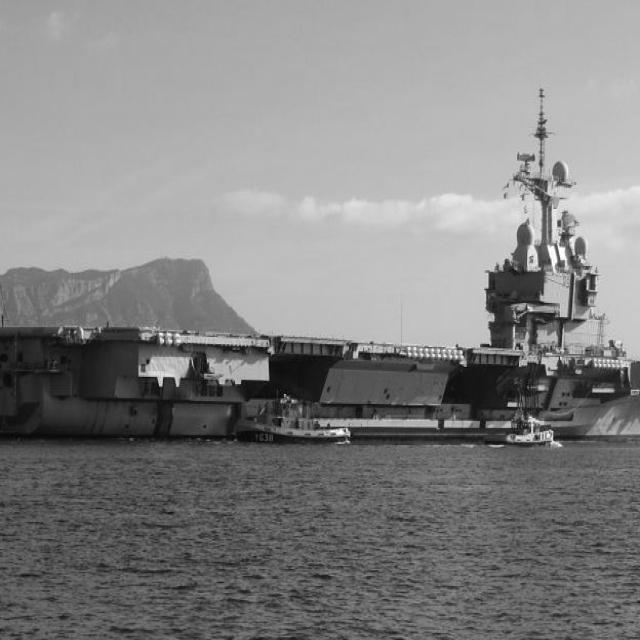Portanaves: (1, 85, 640, 449)
